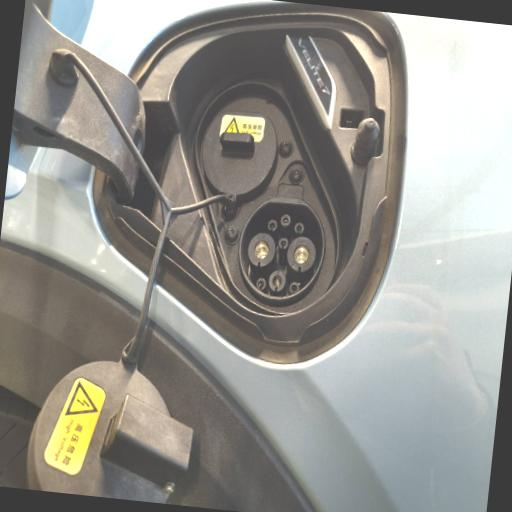DC_charging_port: (232, 190, 333, 310)
DC_hole: (284, 234, 320, 276), (244, 229, 278, 271)
PE: (268, 268, 288, 294)
